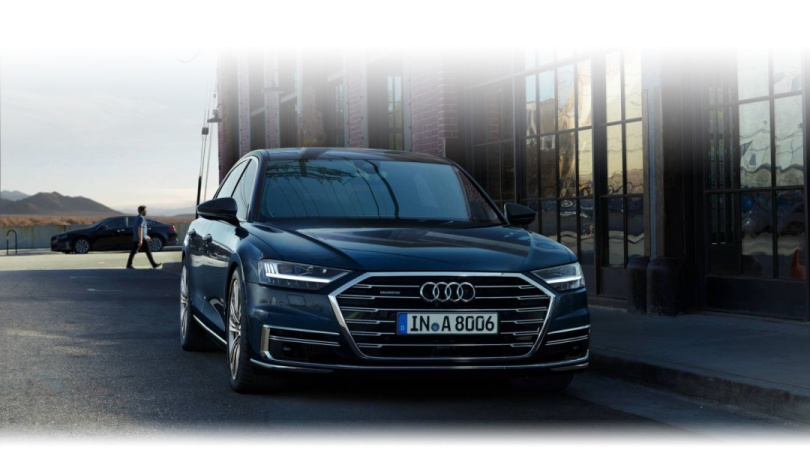audi: (413, 282, 478, 308)
